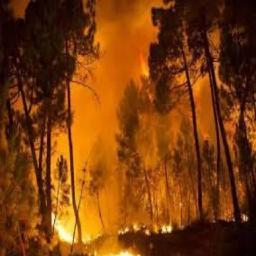Heavy smoke: (37, 0, 214, 195)
Large fire: (12, 97, 203, 256)
